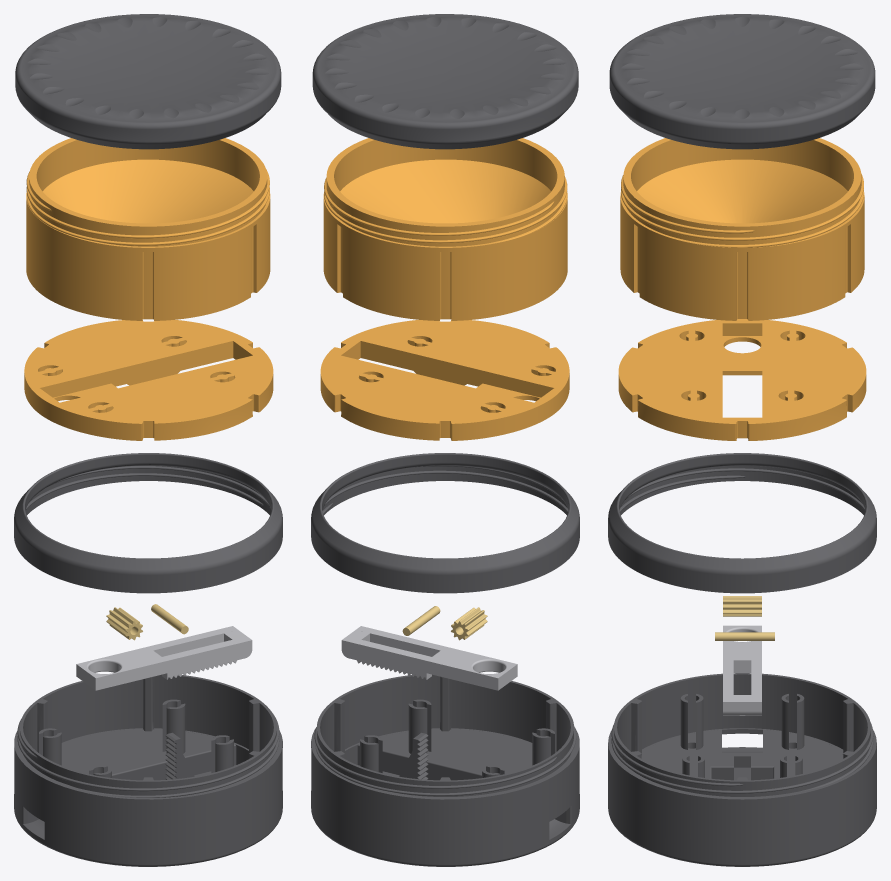
Rendered from exploded-v.glb.
The picture shows the model from 3 angles, left to right: view 1: azimuth 30°, elevation 25°; view 2: azimuth 150°, elevation 25°; view 3: azimuth 270°, elevation 25°; orthographic projection.
Visible parts, largest first — view 1: base, chamber, cap, disc, ring, pusher, gear; view 2: base, chamber, cap, disc, ring, pusher, gear; view 3: base, chamber, cap, disc, ring, pusher, gear, shaft.
Part boxes in pixels (<box>): base: <box>14,674,282,866</box>; chamber: <box>26,138,270,320</box>; cap: <box>15,14,281,149</box>; disc: <box>24,320,273,440</box>; ring: <box>14,453,282,593</box>; pusher: <box>76,626,252,690</box>; gear: <box>106,607,142,640</box>; base: <box>311,674,579,866</box>; chamber: <box>323,138,567,320</box>; cap: <box>312,14,578,149</box>; disc: <box>320,320,569,440</box>; ring: <box>311,453,579,593</box>; pusher: <box>341,626,517,690</box>; gear: <box>451,607,487,640</box>; base: <box>608,673,876,866</box>; chamber: <box>620,138,864,320</box>; cap: <box>609,14,875,149</box>; disc: <box>618,319,866,440</box>; ring: <box>608,453,876,593</box>; pusher: <box>723,625,761,715</box>; gear: <box>723,596,761,616</box>; shaft: <box>715,632,774,640</box>.
Bounding box in the file's own units: 0.1003 × 0.3066 × 0.1003.
